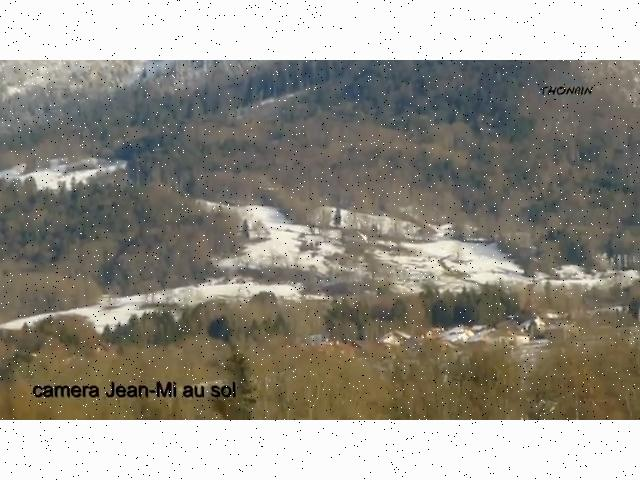Anti-Drone: (256, 181, 284, 200)
